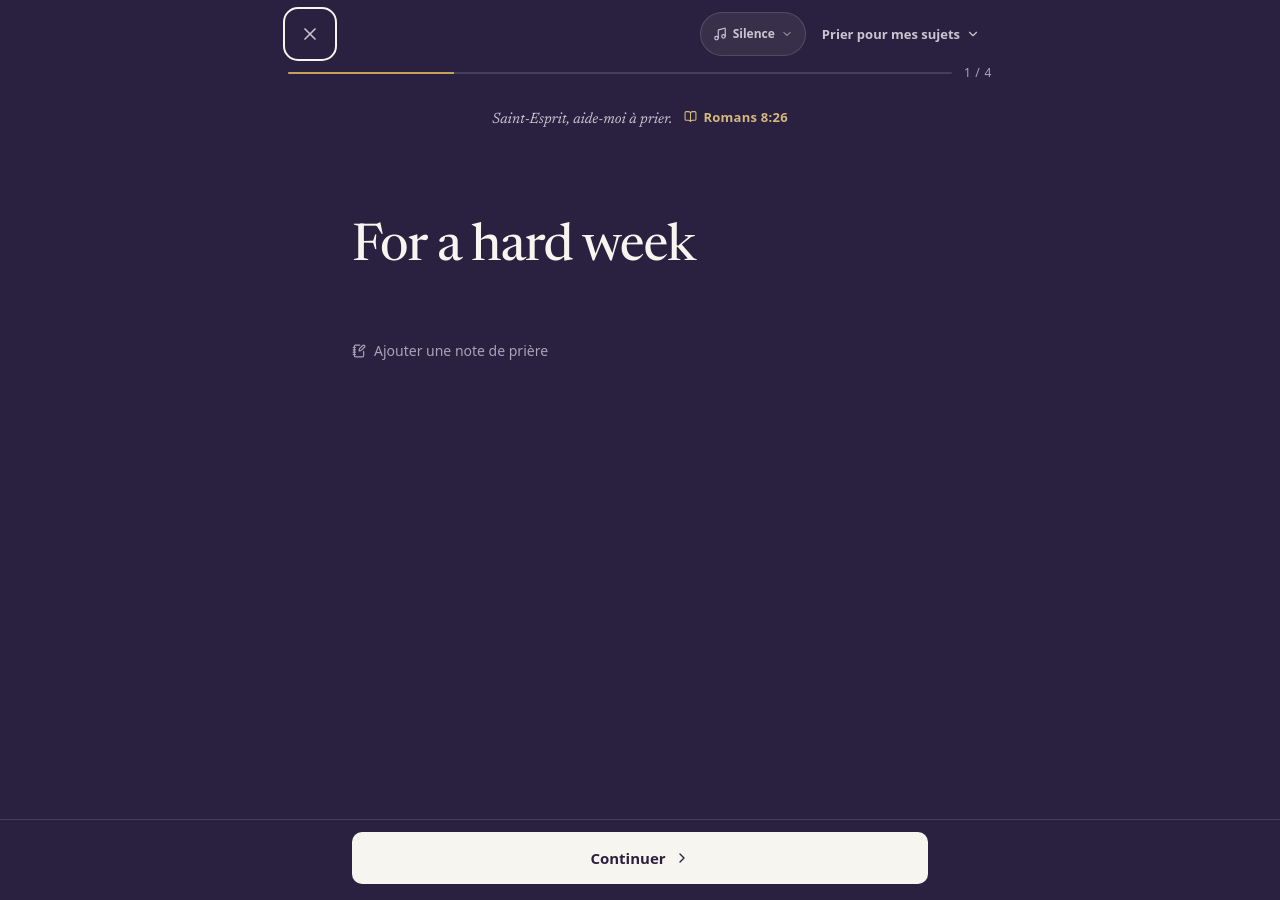
it: PrayerSession — Pray through my altar › walks circle by circle, crossing a quiet threshold into each, and is remembered
Click the button titled "Format de prière": click(901, 34) [810, 12, 992, 56]
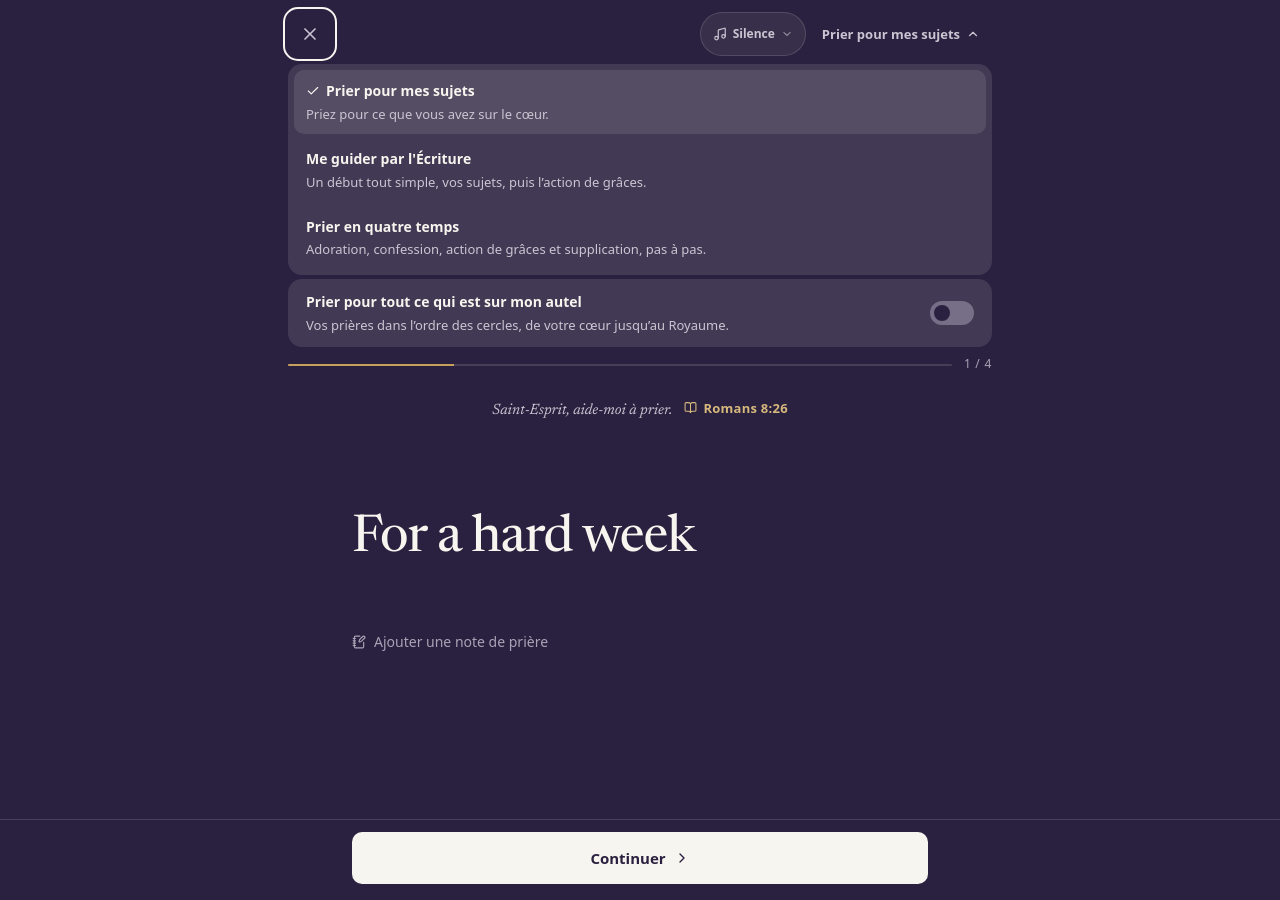
Click the switch named "Prier pour tout ce qui est sur mon autel": click(952, 313) [918, 289, 986, 337]
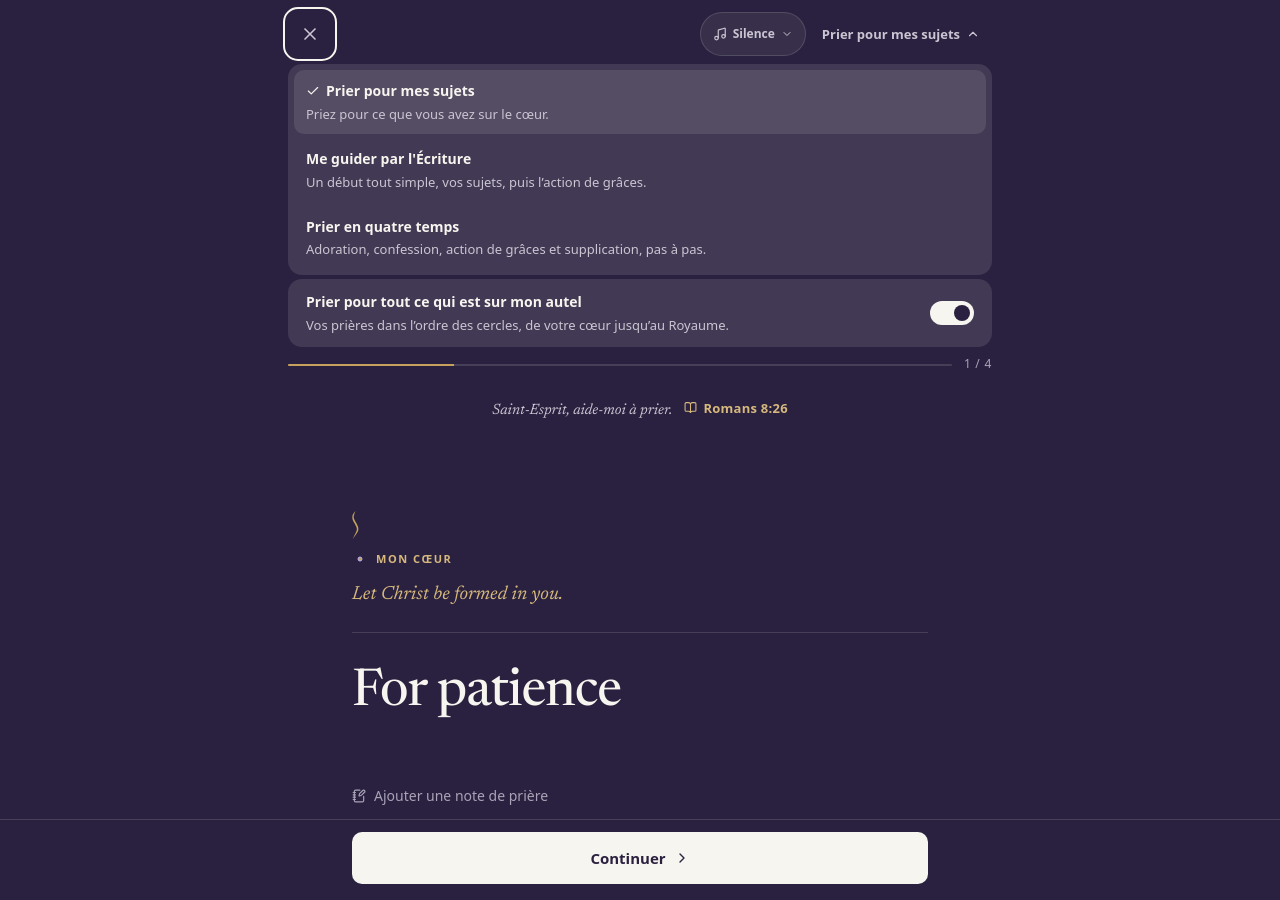
Check: the heading "For patience" is shown, box [352, 667, 621, 719]
Check: the element showing "Mon cœur Let Christ be formed in you." is shown, box [352, 511, 928, 633]
Click the button "Continuer": click(640, 858) [352, 832, 928, 884]
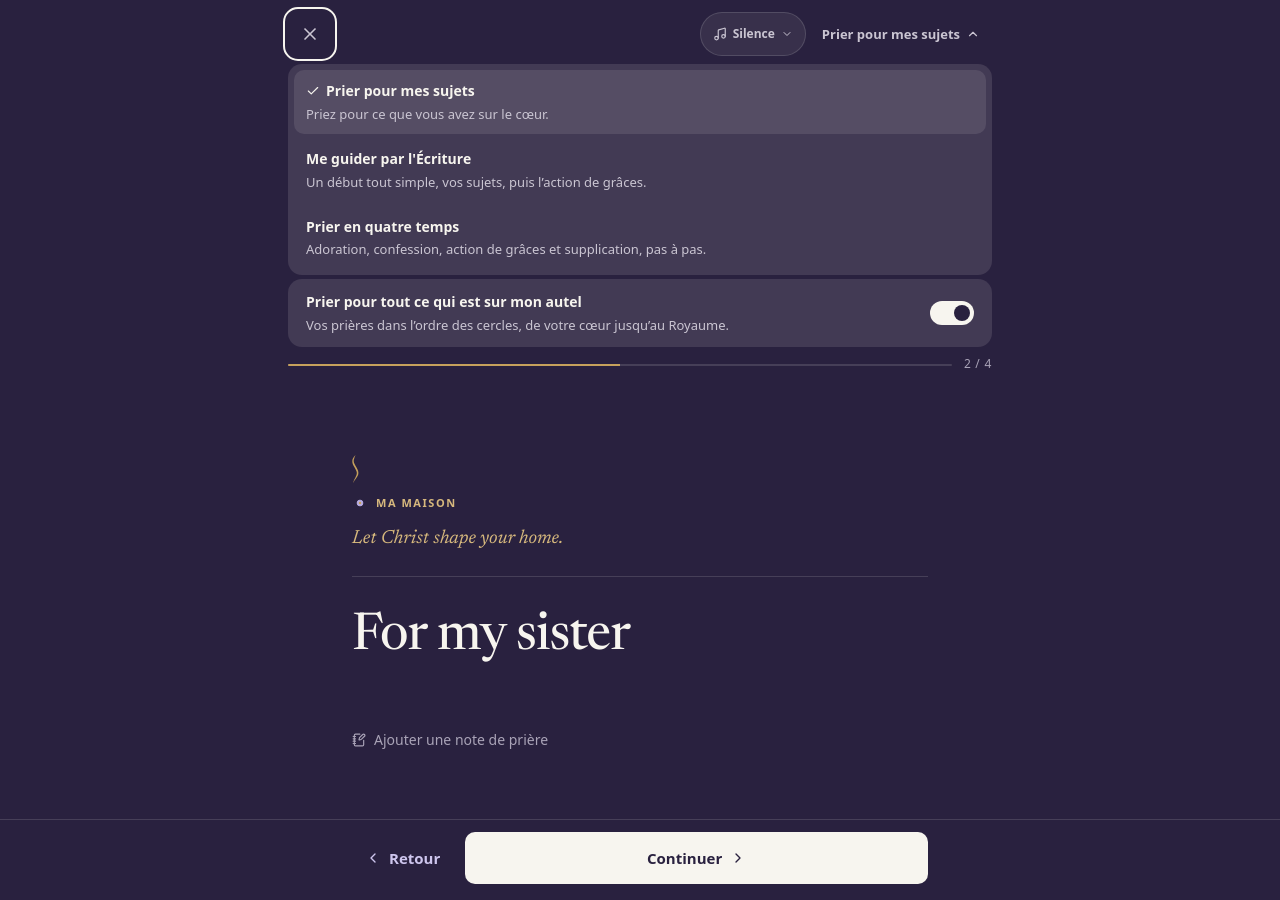
Check: the heading "For my sister" is shown, box [352, 611, 630, 663]
Check: the element showing "Ma maison Let Christ shape your home." is shown, box [352, 455, 928, 577]
Click the button "Continuer": click(697, 858) [465, 832, 928, 884]
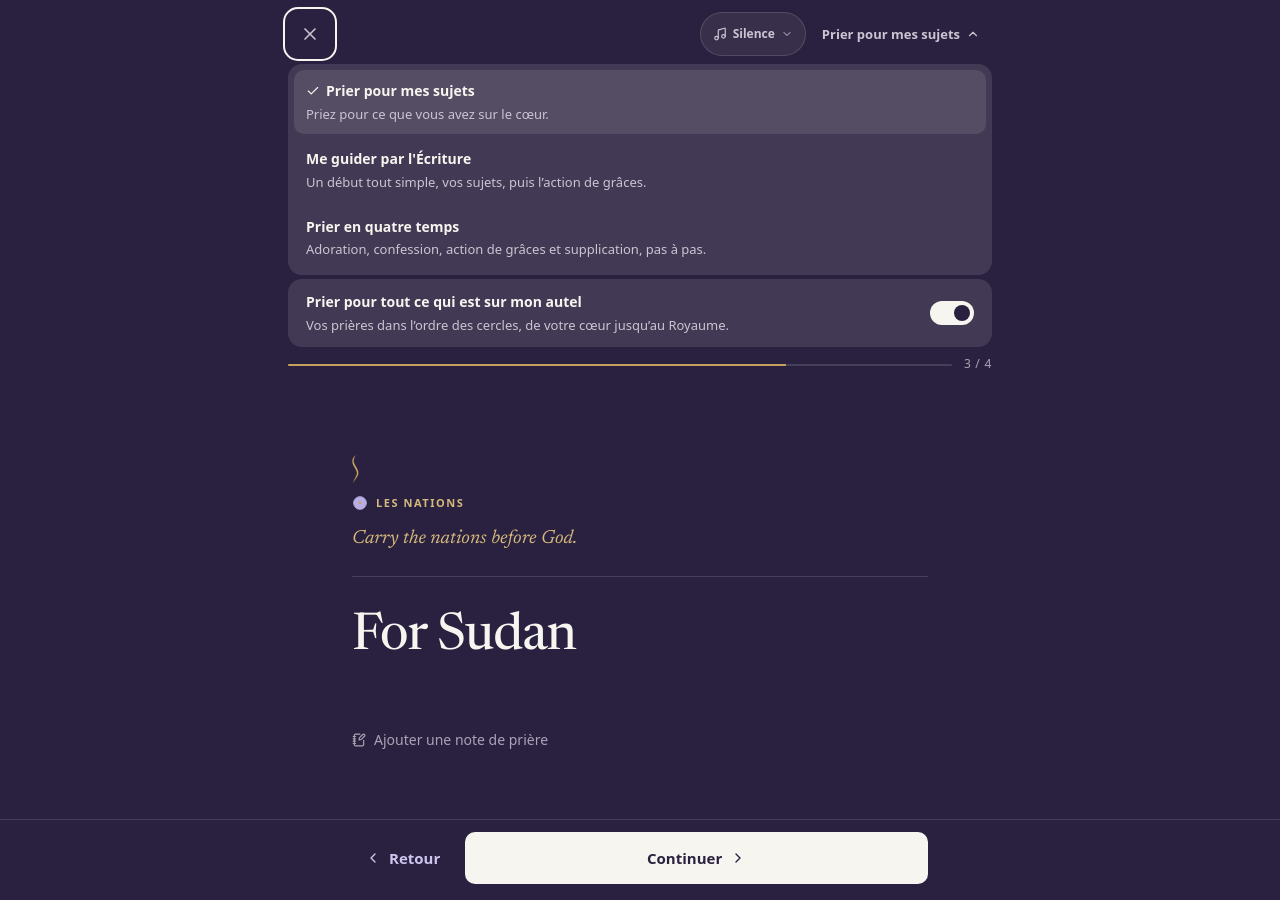
Check: the heading "For Sudan" is shown, box [352, 611, 576, 663]
Click the button "Continuer": click(697, 858) [465, 832, 928, 884]
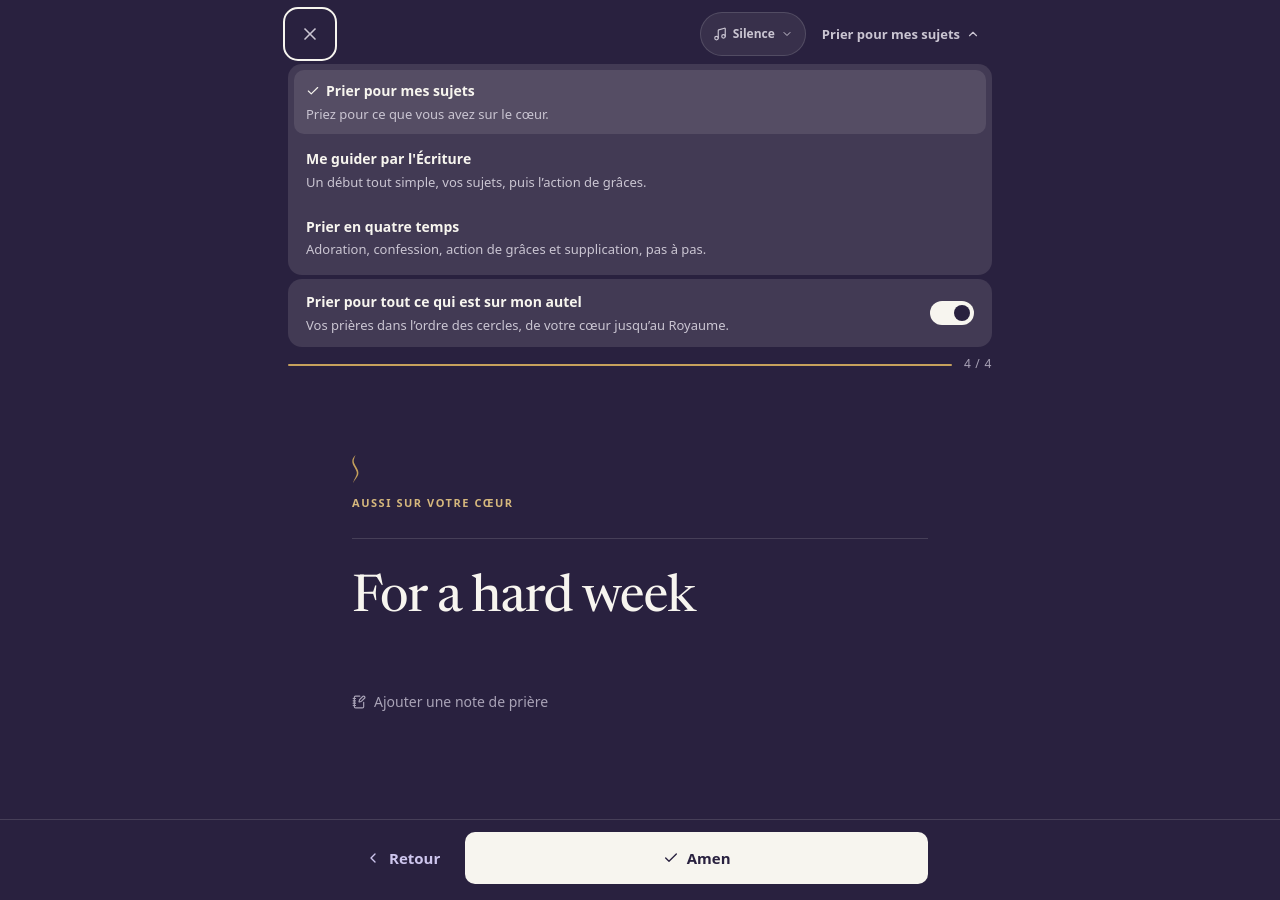
Check: the heading "For a hard week" is shown, box [352, 573, 695, 625]
Check: the element showing "Aussi sur votre cœur" is shown, box [352, 455, 928, 539]
